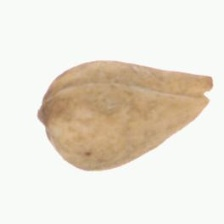L1: (36, 89, 52, 139), (196, 74, 214, 111)
L2: (37, 60, 214, 171)
